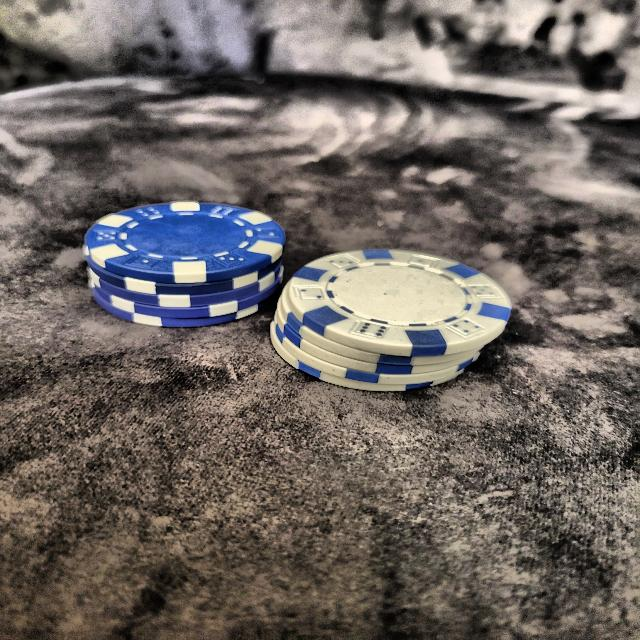Chip: (274, 221, 517, 413), (77, 185, 289, 341)
